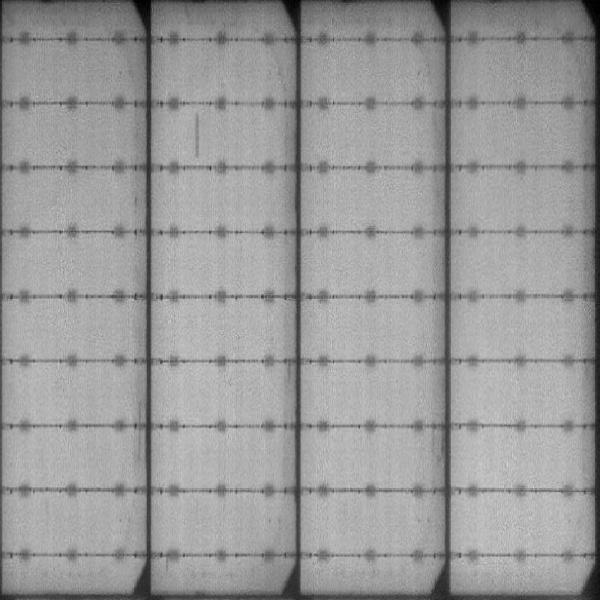scratch: (190, 106, 208, 165)
